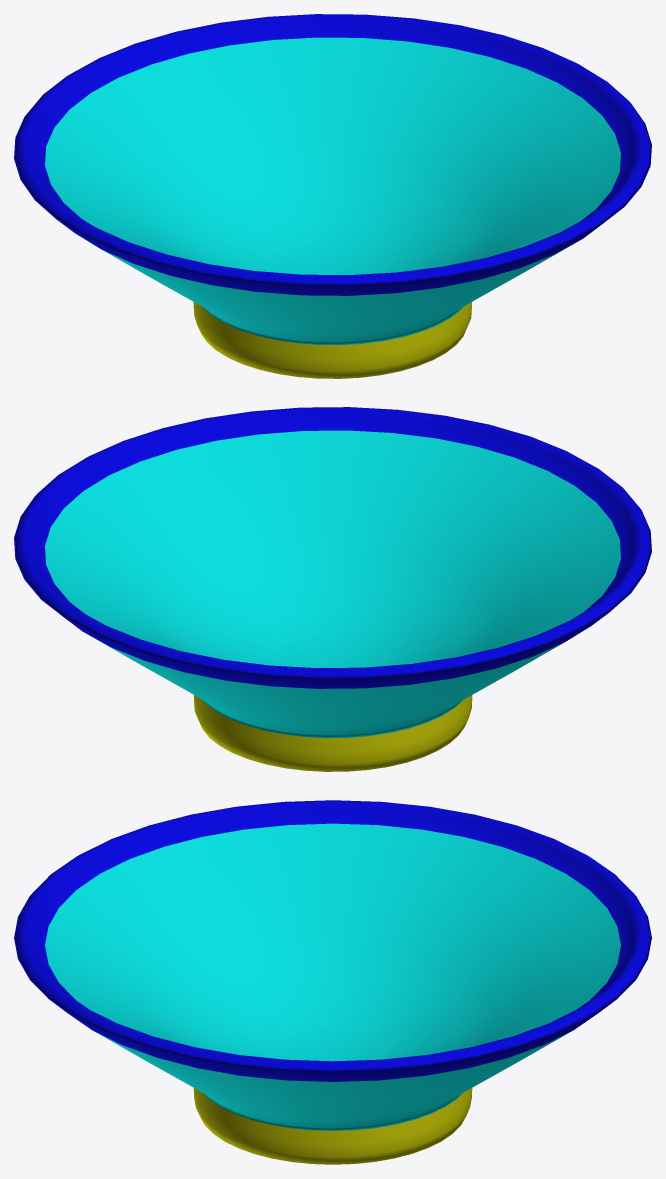
The model's file is Bowl.fbx.
3 renders of one model, top to bottom at view 1: azimuth 30°, elevation 25°; view 2: azimuth 150°, elevation 25°; view 3: azimuth 270°, elevation 25°, orthographic.
Visible parts, largest first — view 1: pCylinder1; view 2: pCylinder1; view 3: pCylinder1.
Boxes of the visible parts, left/top/right/bottom form: pCylinder1: left=14, top=14, right=651, bottom=378; pCylinder1: left=14, top=407, right=651, bottom=771; pCylinder1: left=14, top=800, right=651, bottom=1164.
Size of the model in its own units: 1.92 by 0.5953 by 1.92.
